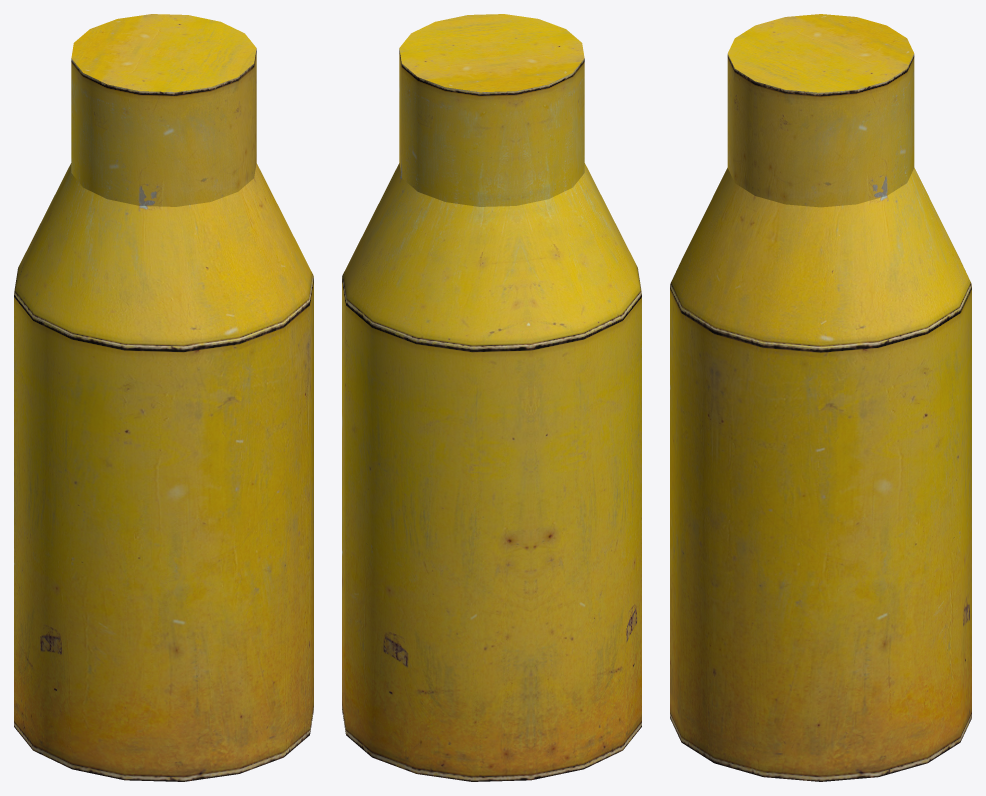
File: BoilerA.fbx
The picture shows the model from 3 angles, left to right: view 1: azimuth 30°, elevation 25°; view 2: azimuth 150°, elevation 25°; view 3: azimuth 270°, elevation 25°; orthographic projection.
Parts seen in each view (by area): view 1: BoilerA; view 2: BoilerA; view 3: BoilerA.
Boxes of the visible parts, <box> form: BoilerA: <box>14,14,313,781</box>; BoilerA: <box>342,14,641,781</box>; BoilerA: <box>670,14,971,781</box>.
Size of the model in its own units: 132 by 336 by 132.
